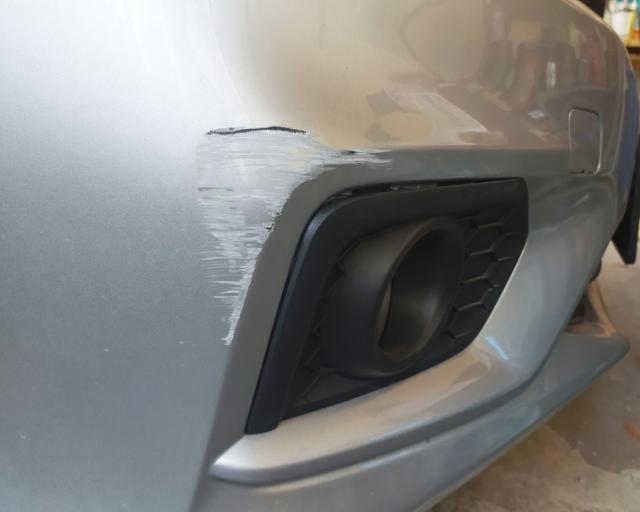scratch: (187, 123, 397, 355)
